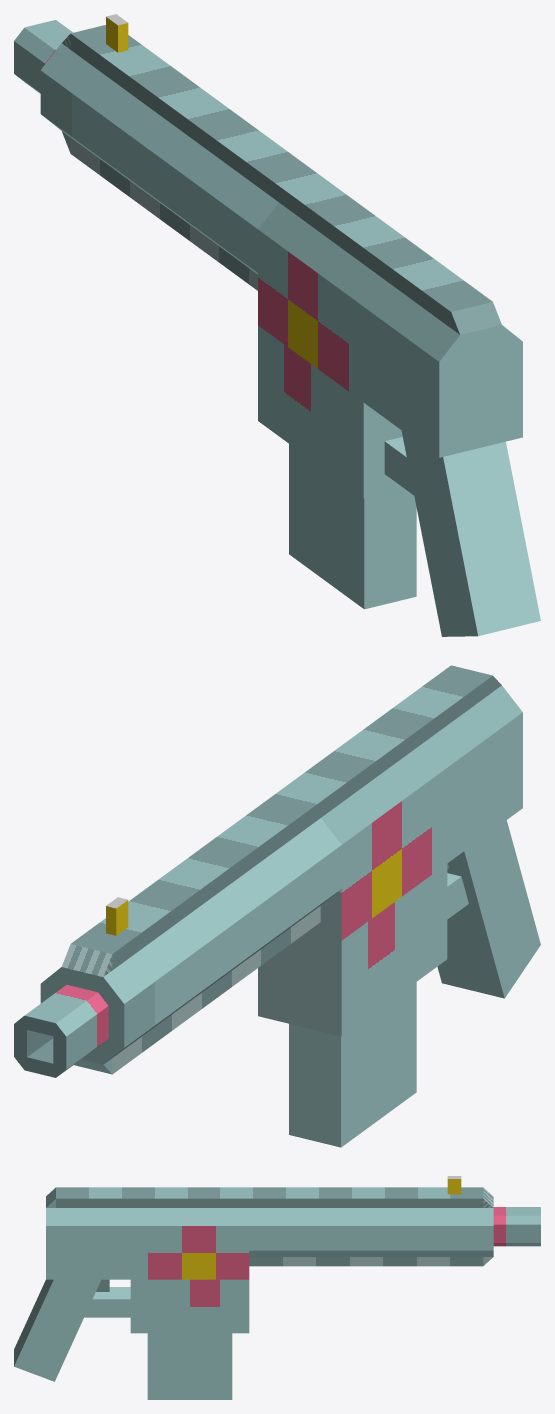
Rendered from aluminum_boat_body.gltf.
3 views of the same model, one above another, from view 1: azimuth 30°, elevation 25°; view 2: azimuth 150°, elevation 25°; view 3: azimuth 270°, elevation 25° (orthographic). The views are drawn at different scales.
Visible parts, largest first — view 1: cube (×15); view 2: cube (×19); view 3: cube (×15).
Part boxes in pixels (x1,y1,x2,y2): cube (×15): [14, 14, 540, 636]; cube (×19): [14, 665, 540, 1147]; cube (×15): [14, 1176, 540, 1399].
Size of the model in its own units: 0.1 by 0.4375 by 0.9714.
1 material, 1 textured.
